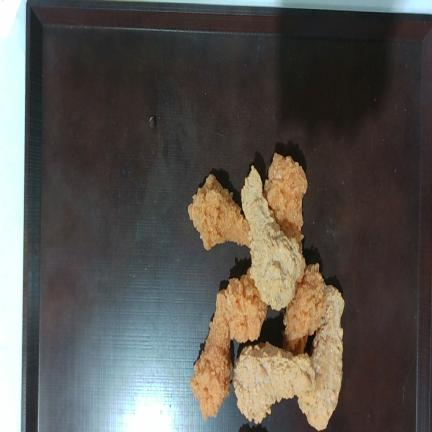chicken: (241, 166, 305, 310), (233, 343, 316, 423), (305, 287, 344, 430), (190, 292, 232, 419), (188, 174, 250, 250), (264, 153, 307, 248), (284, 264, 325, 353), (221, 270, 267, 343)
